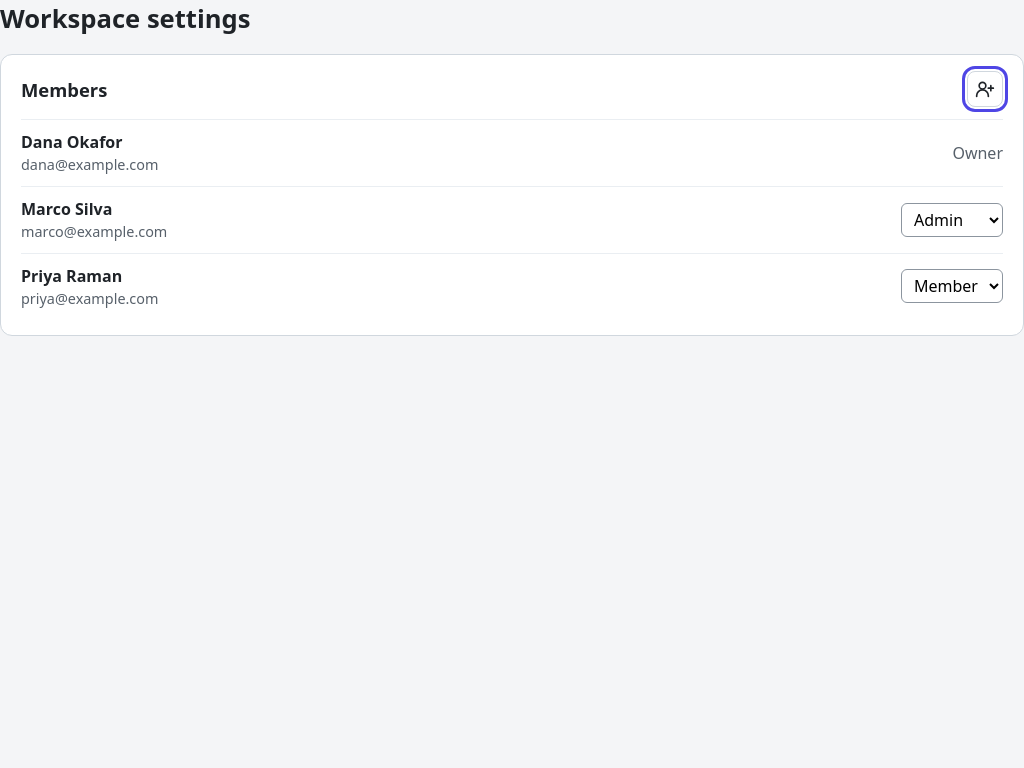
Test case: BEFORE: documented failures › Escape does nothing and closing drops focus to the document body
Press Enter
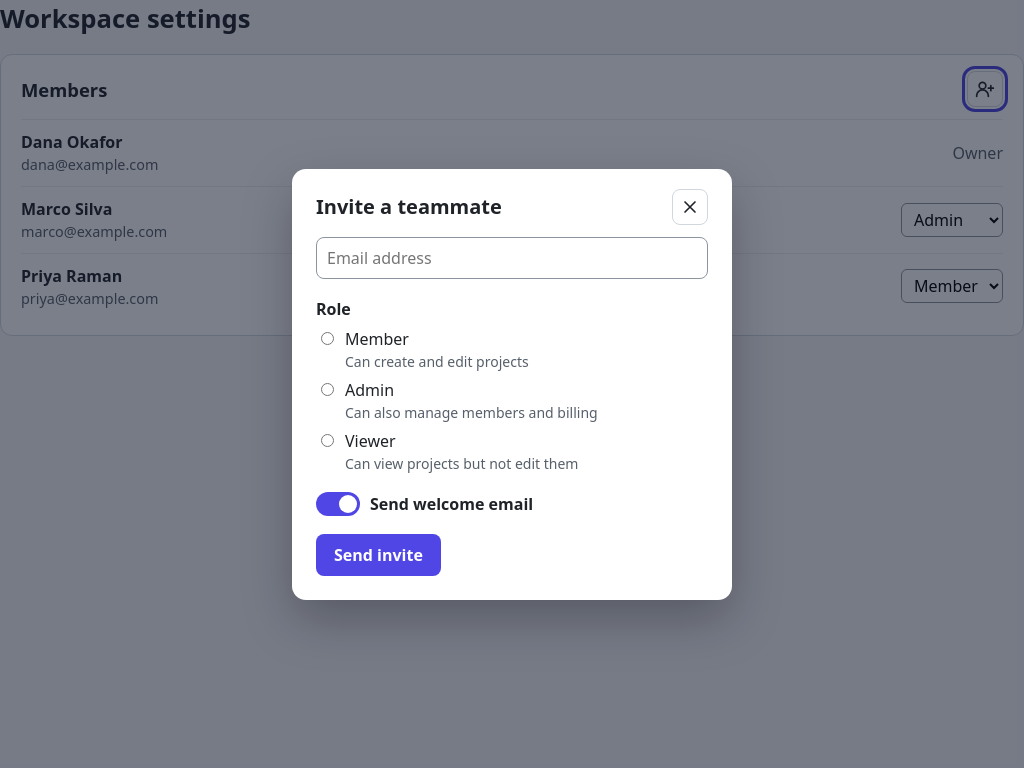
Press Escape
Expected: the text "Invite a teammate" is shown, x1=316 y1=192 x2=502 y2=222
Click the 1st button at (690, 206), box x1=672 y1=188 x2=708 y2=224
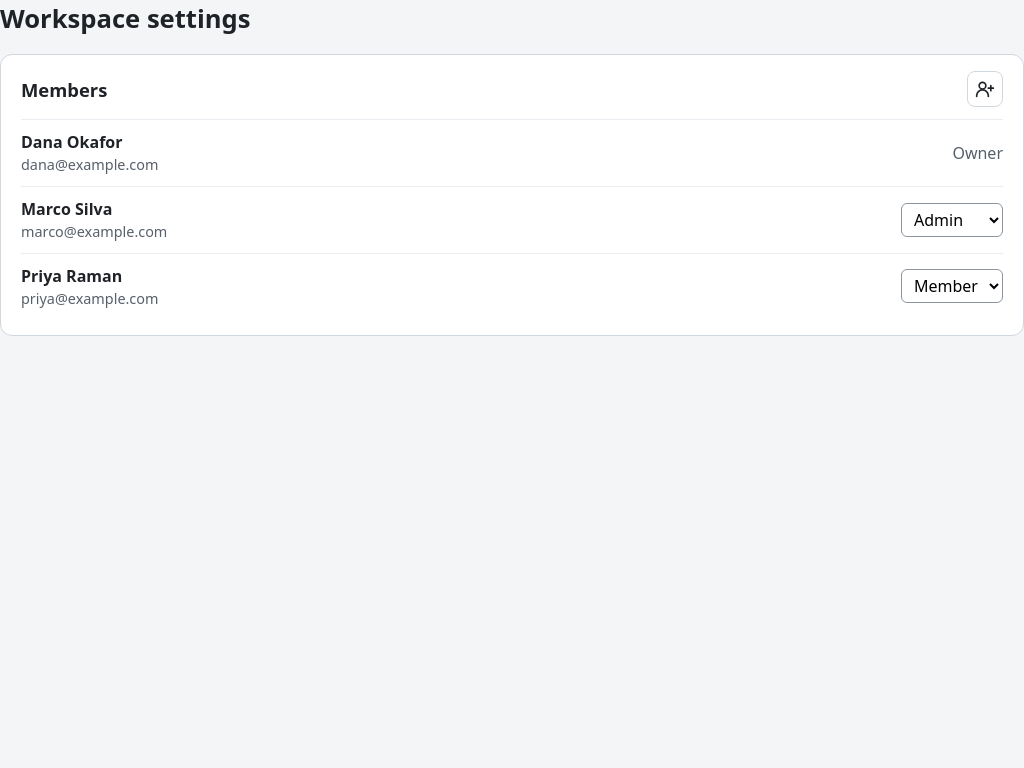
Expected: the text "Invite a teammate" is gone
